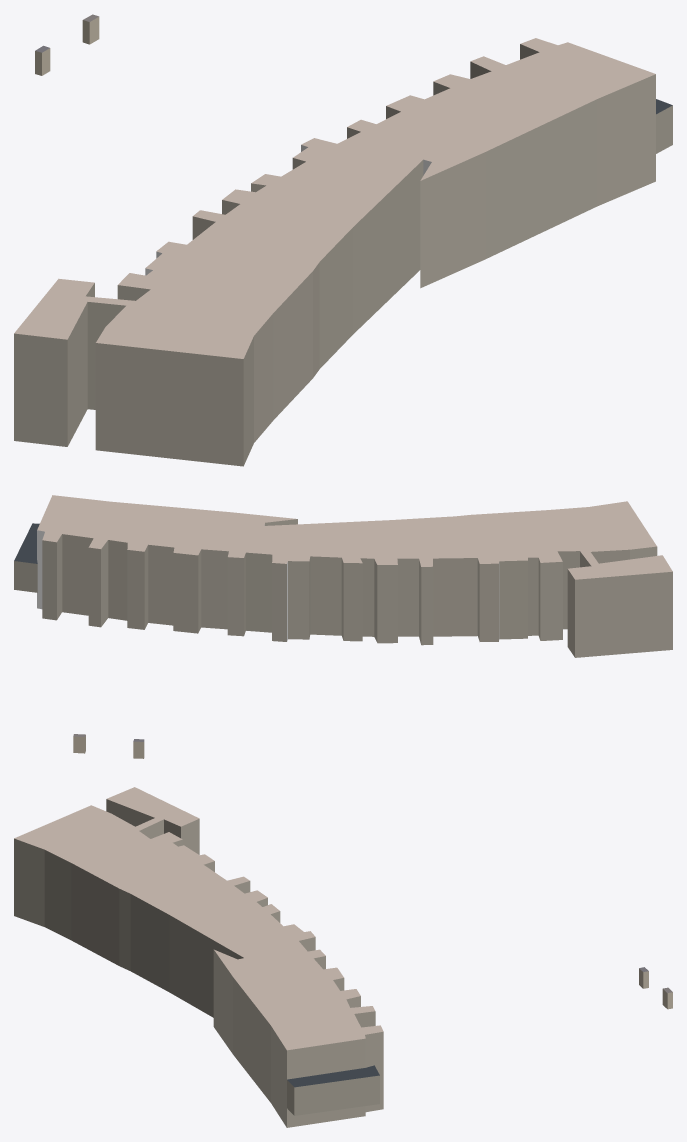
3 renders of one model, top to bottom at view 1: azimuth 30°, elevation 25°; view 2: azimuth 150°, elevation 25°; view 3: azimuth 270°, elevation 25°, orthographic. The views are drawn at different scales.
Parts seen in each view (by area): view 1: tuile; view 2: tuile; view 3: tuile.
Boxes of the visible parts, x1,y1,x2,y2 form: tuile: (14,14,672,466); tuile: (14,495,672,758); tuile: (14,787,672,1127).
Bounding box in the file's own units: 211 × 28.2 × 217.
